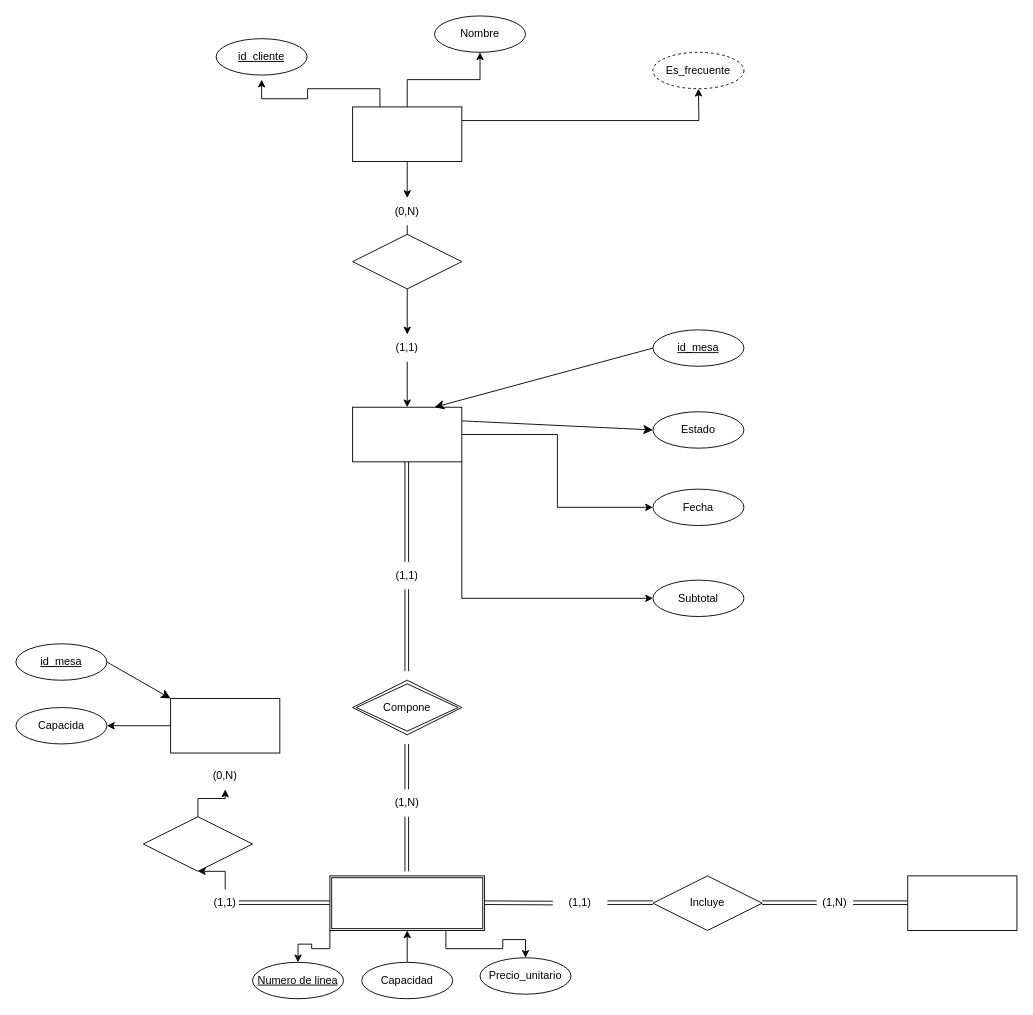
Some shapes in this 1033 by 1015 pixel diagram are drawn without their labels. The shapes that lost their labels are listed below. From the top down, each one's centre as x and y in pixels, then its label:
At (x=407, y=134): "Cliente".
At (x=407, y=261): "Realiza".
At (x=407, y=434): "Pedido".
At (x=225, y=725): "Mesa".
At (x=197, y=843): "Asigna".
At (x=407, y=902): "Item_pedido".
At (x=962, y=902): "Plato".
